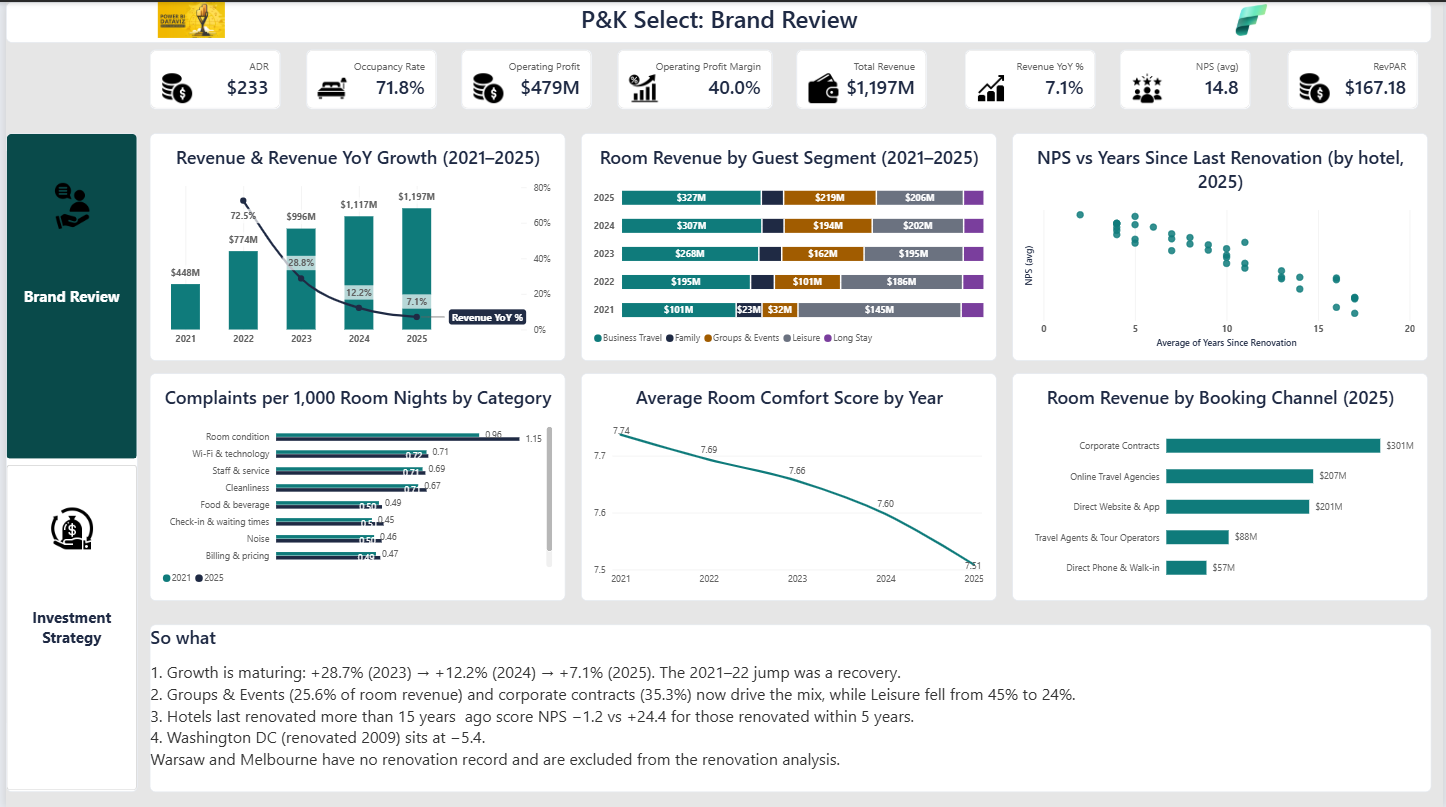

Layout of this report page (visuals, bound fields, positions):
{"tool":"powerbi","page":{"name":"Brand Review","canvas":[1920,1080],"ordinal":0},"visuals":[{"type":"shape","title":"P&K Select: Brand Review","box":[0,0,1904,54],"z":0},{"type":"image","title":"World Champs Logo","box":[144,0,208,48],"z":1000},{"type":"scatterChart","title":"NPS vs Years Since Last Renovation (by hotel, 2025)","fields":{"Category":["Hotels.HotelID"],"X":["Hotels.Years Since Renovation"],"Y":["DAX.NPS"]},"box":[1344,176,555,304],"z":3000},{"type":"lineClusteredColumnComboChart","title":"Revenue & Revenue YoY Growth (2021–2025)","fields":{"Category":["Date.Year"],"Y":["DAX.Total Revenue"],"Y2":["DAX.Revenue YoY %"]},"box":[192,176,555,304],"z":4000},{"type":"hundredPercentStackedBarChart","title":"Room Revenue by Guest Segment (2021–2025)","fields":{"Category":["Date.Year"],"Series":["GuestSegments.Segment"],"Y":["Sum(GuestSegments.RoomRevenue)"]},"box":[768,176,555,304],"z":5000},{"type":"clusteredBarChart","title":"Complaints per 1,000 Room Nights by Category","fields":{"Category":["GuestComplaints.Category"],"Series":["Date.Year"],"Y":["DAX.Complaints per 1,000 Room Nights"]},"box":[192,496,555,304],"z":6000},{"type":"lineChart","title":"Average Room Comfort Score by Year","fields":{"Category":["Date.Year"],"Y":["Avg(GuestExperience.RoomComfortScore)"]},"box":[768,496,555,304],"z":7000},{"type":"clusteredBarChart","title":"Room Revenue by Booking Channel (2025)","fields":{"Category":["BookingChannels.Channel"],"Y":["Sum(BookingChannels.RoomRevenue)"]},"box":[1344,496,555,304],"z":8000},{"type":"cardVisual","fields":{"Data":["DAX.ADR"]},"box":[192,64,175,80],"z":9000},{"type":"cardVisual","fields":{"Data":["DAX.Operating Profit"]},"box":[608,64,175,80],"z":10000},{"type":"cardVisual","fields":{"Data":["DAX.Operating Profit Margin"]},"box":[816,64,208,80],"z":11000},{"type":"cardVisual","fields":{"Data":["DAX.RevPAR"]},"box":[1712,64,175,80],"z":12000},{"type":"cardVisual","fields":{"Data":["DAX.Occupancy Rate"]},"box":[400,64,175,80],"z":13000},{"type":"cardVisual","fields":{"Data":["DAX.Total Revenue"]},"box":[1056,64,175,80],"z":14000},{"type":"textbox","title":"So what","box":[192,832,1712,224],"z":15000},{"type":"cardVisual","fields":{"Data":["DAX.NPS"]},"box":[1488,64,175,80],"z":16000},{"type":"cardVisual","fields":{"Data":["DAX.Revenue YoY %"]},"box":[1280,64,175,80],"z":17000},{"type":"image","title":"Fabric Icon","box":[1600,0,128,48],"z":18000},{"type":"image","box":[1072,96,40,40],"z":19000},{"type":"image","box":[1296,96,40,40],"z":20000},{"type":"image","box":[416,96,40,40],"z":21000},{"type":"image","box":[832,96,40,40],"z":22000},{"type":"image","box":[208,96,40,40],"z":23000},{"type":"image","box":[624,96,40,40],"z":24000},{"type":"image","box":[1728,96,40,40],"z":25000},{"type":"pageNavigator","box":[0,176,176,880],"z":26000},{"type":"image","box":[48,240,80,64],"z":27000},{"type":"image","box":[48,672,80,64],"z":28000},{"type":"image","box":[1504,96,40,40],"z":29000}]}

Visuals, with their boxes in screenshot pixels (x1, y1, x2, y2), scaled from the page's 1920x1080 canvas onto the 1446x807 screenshot:
"P&K Select: Brand Review" shape: pyautogui.locateOnScreen(0, 0, 1434, 40)
"World Champs Logo" image: pyautogui.locateOnScreen(108, 0, 265, 36)
"NPS vs Years Since Last Renovation (by hotel, 2025)" scatterChart: pyautogui.locateOnScreen(1012, 132, 1430, 359)
"Revenue & Revenue YoY Growth (2021–2025)" lineClusteredColumnComboChart: pyautogui.locateOnScreen(145, 132, 563, 359)
"Room Revenue by Guest Segment (2021–2025)" hundredPercentStackedBarChart: pyautogui.locateOnScreen(578, 132, 996, 359)
"Complaints per 1,000 Room Nights by Category" clusteredBarChart: pyautogui.locateOnScreen(145, 371, 563, 598)
"Average Room Comfort Score by Year" lineChart: pyautogui.locateOnScreen(578, 371, 996, 598)
"Room Revenue by Booking Channel (2025)" clusteredBarChart: pyautogui.locateOnScreen(1012, 371, 1430, 598)
cardVisual - DAX.ADR: pyautogui.locateOnScreen(145, 48, 276, 108)
cardVisual - DAX.Operating Profit: pyautogui.locateOnScreen(458, 48, 590, 108)
cardVisual - DAX.Operating Profit Margin: pyautogui.locateOnScreen(615, 48, 771, 108)
cardVisual - DAX.RevPAR: pyautogui.locateOnScreen(1289, 48, 1421, 108)
cardVisual - DAX.Occupancy Rate: pyautogui.locateOnScreen(301, 48, 433, 108)
cardVisual - DAX.Total Revenue: pyautogui.locateOnScreen(795, 48, 927, 108)
"So what" textbox: pyautogui.locateOnScreen(145, 622, 1434, 789)
cardVisual - DAX.NPS: pyautogui.locateOnScreen(1121, 48, 1252, 108)
cardVisual - DAX.Revenue YoY %: pyautogui.locateOnScreen(964, 48, 1096, 108)
"Fabric Icon" image: pyautogui.locateOnScreen(1205, 0, 1301, 36)
image: pyautogui.locateOnScreen(807, 72, 837, 102)
image: pyautogui.locateOnScreen(976, 72, 1006, 102)
image: pyautogui.locateOnScreen(313, 72, 343, 102)
image: pyautogui.locateOnScreen(627, 72, 657, 102)
image: pyautogui.locateOnScreen(157, 72, 187, 102)
image: pyautogui.locateOnScreen(470, 72, 500, 102)
image: pyautogui.locateOnScreen(1301, 72, 1332, 102)
pageNavigator: pyautogui.locateOnScreen(0, 132, 133, 789)
image: pyautogui.locateOnScreen(36, 179, 96, 227)
image: pyautogui.locateOnScreen(36, 502, 96, 550)
image: pyautogui.locateOnScreen(1133, 72, 1163, 102)
